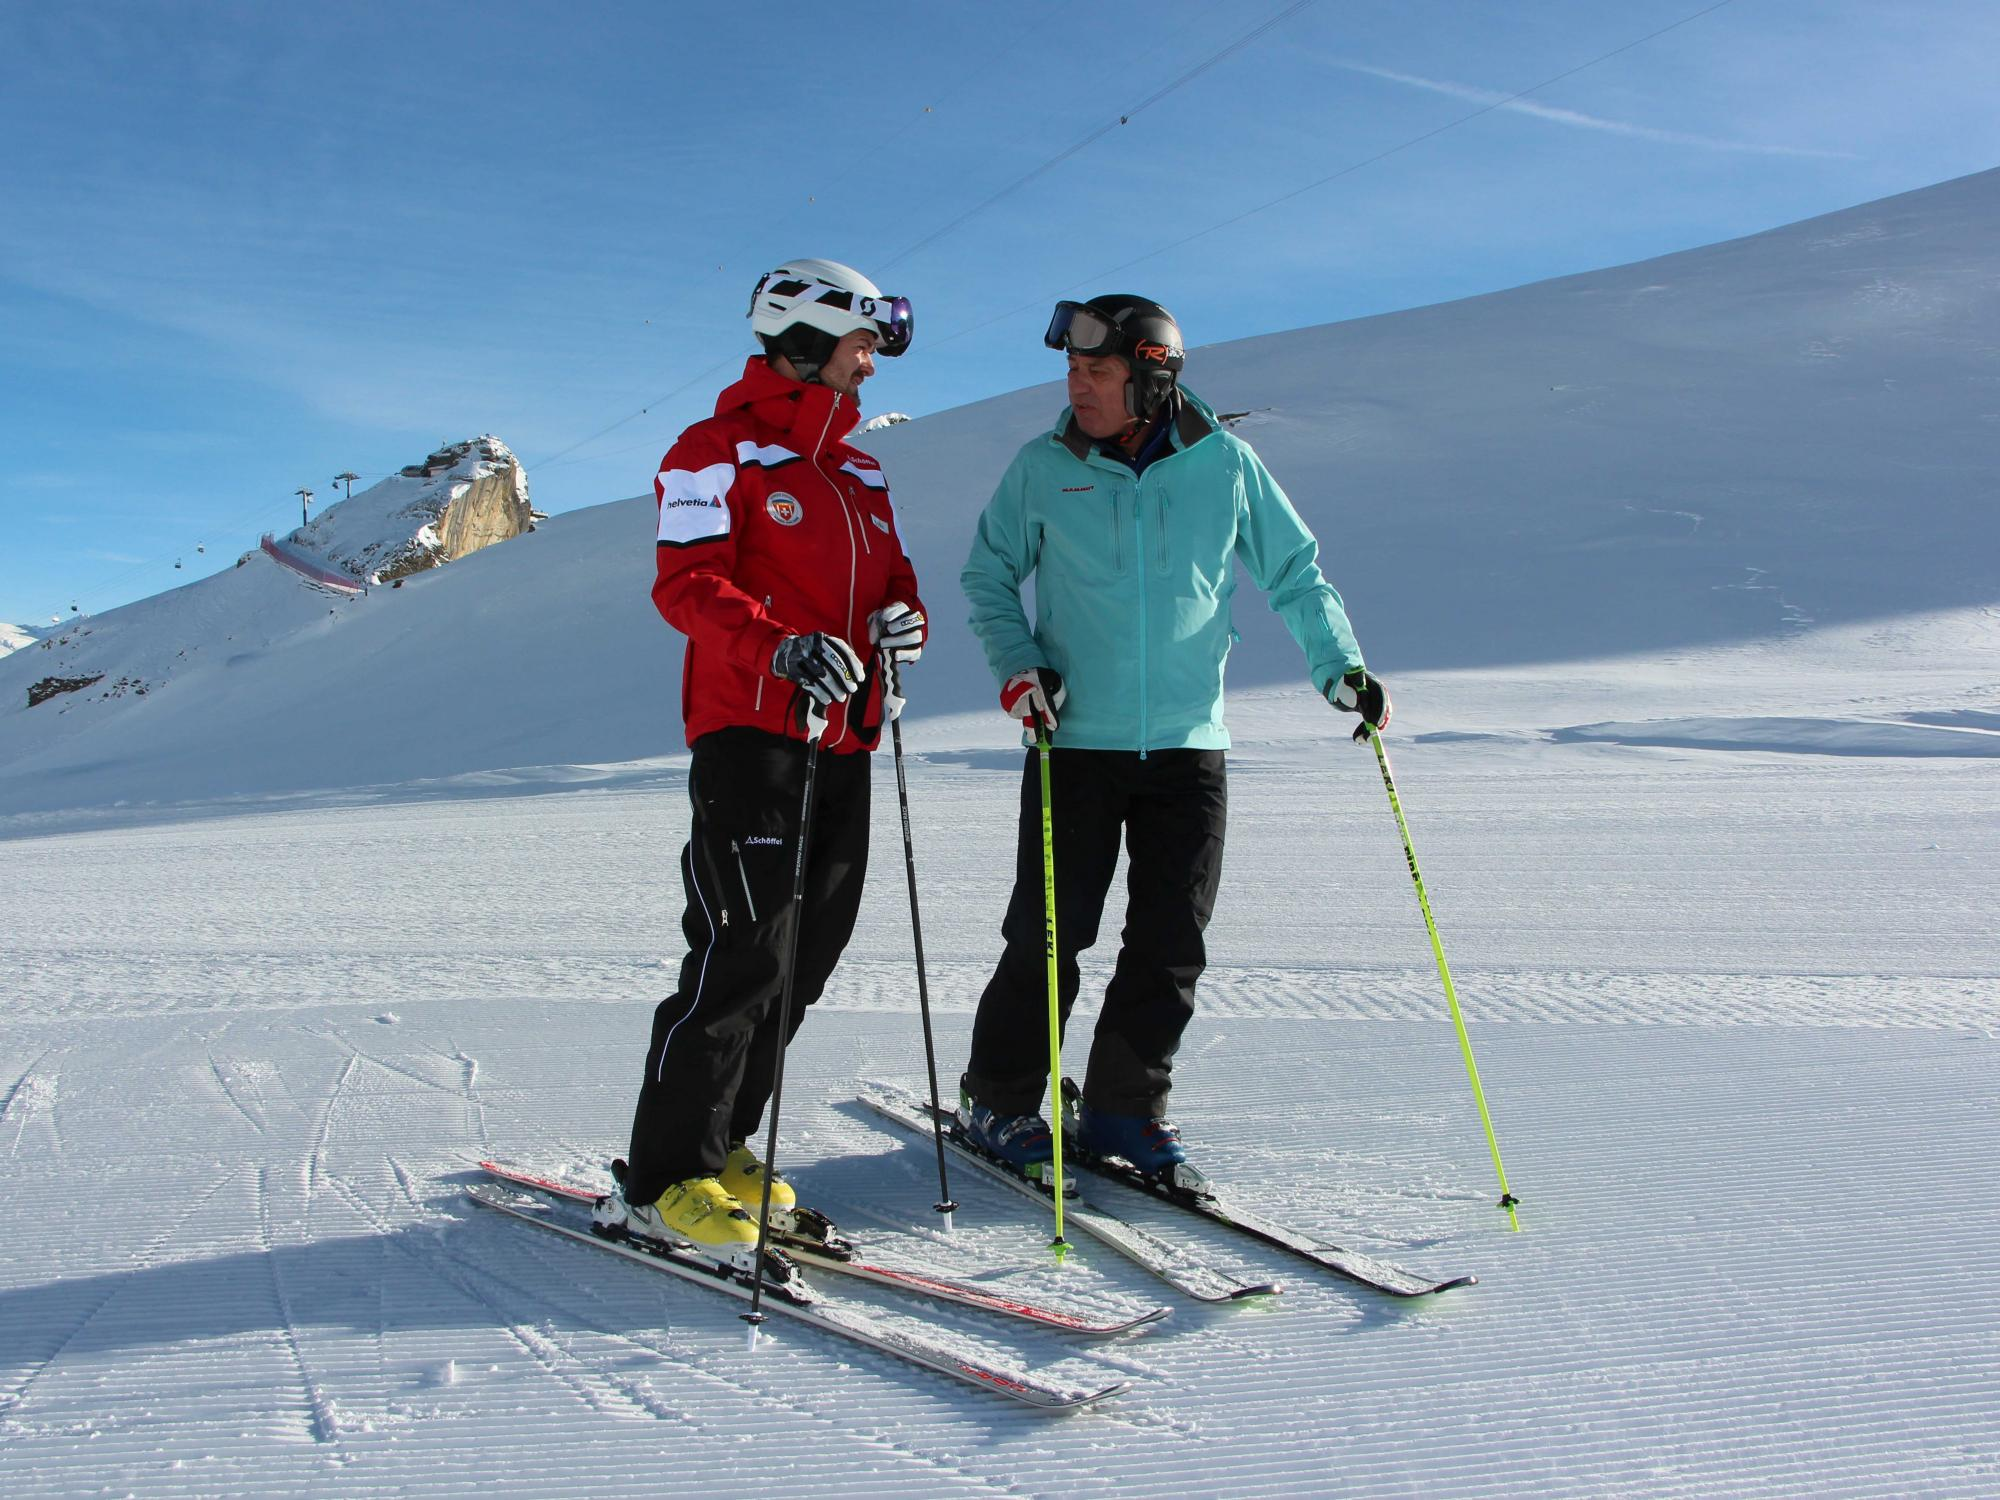skier: (472, 257, 1151, 1445), (882, 290, 1535, 1333)
